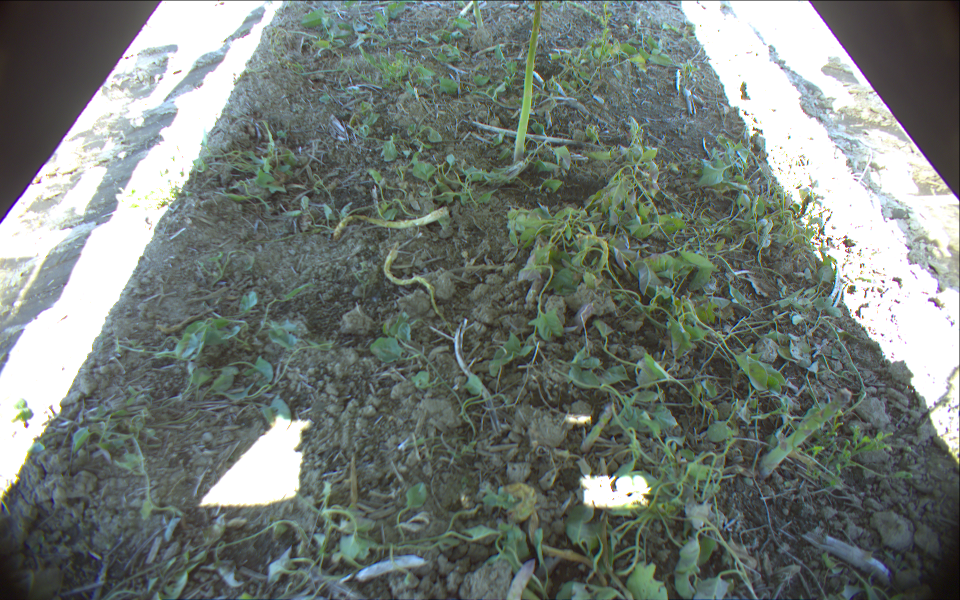aspa: (751, 387, 853, 485), (510, 1, 545, 169)
